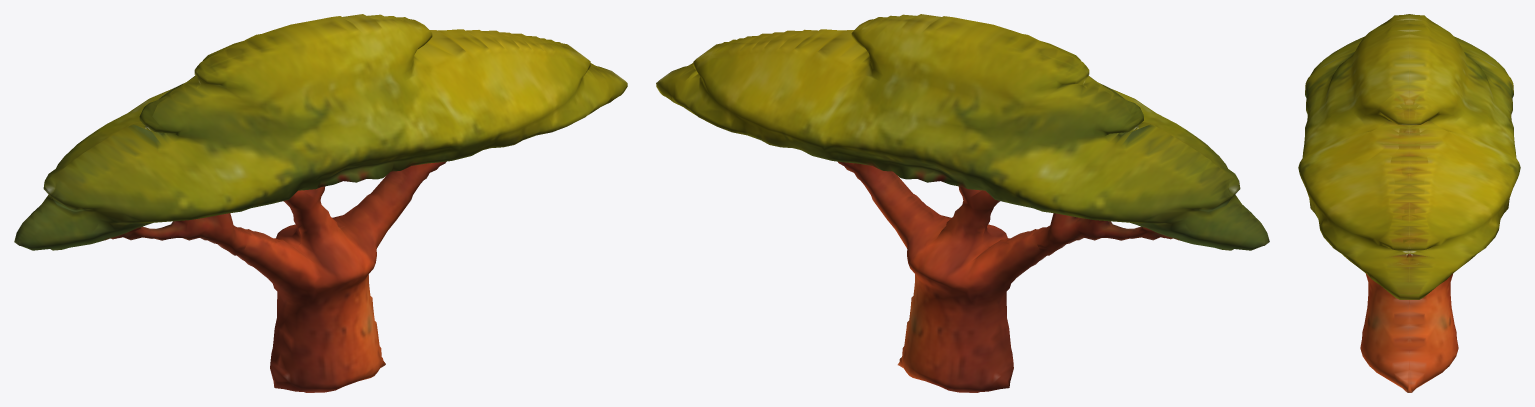
The model's file is 03_baobab_trees_r02_c01.glb.
The picture shows the model from 3 angles, left to right: view 1: azimuth 30°, elevation 25°; view 2: azimuth 150°, elevation 25°; view 3: azimuth 270°, elevation 25°; orthographic projection. The views are drawn at different scales.
Visible parts, largest first — view 1: 03_baobab_trees_r02_c01; view 2: 03_baobab_trees_r02_c01; view 3: 03_baobab_trees_r02_c01.
Boxes of the visible parts, x1,y1,x2,y2 form: 03_baobab_trees_r02_c01: [14, 14, 627, 392]; 03_baobab_trees_r02_c01: [656, 14, 1269, 392]; 03_baobab_trees_r02_c01: [1298, 14, 1520, 392].
Bounding box in the file's own units: 2.96 × 1.65 × 1.06.
Materials: 1 (1 with a texture image).
